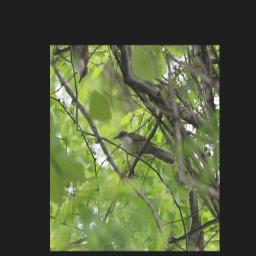Cuckoo: (111, 104, 179, 194)
